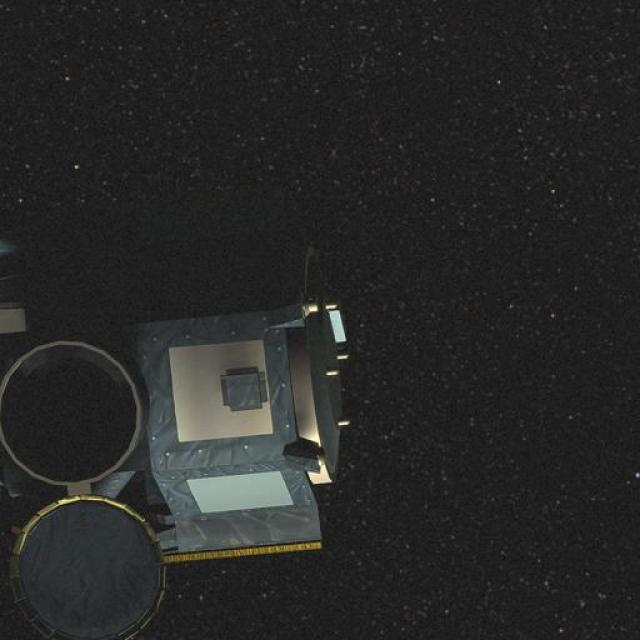cheops: (4, 239, 350, 635)
